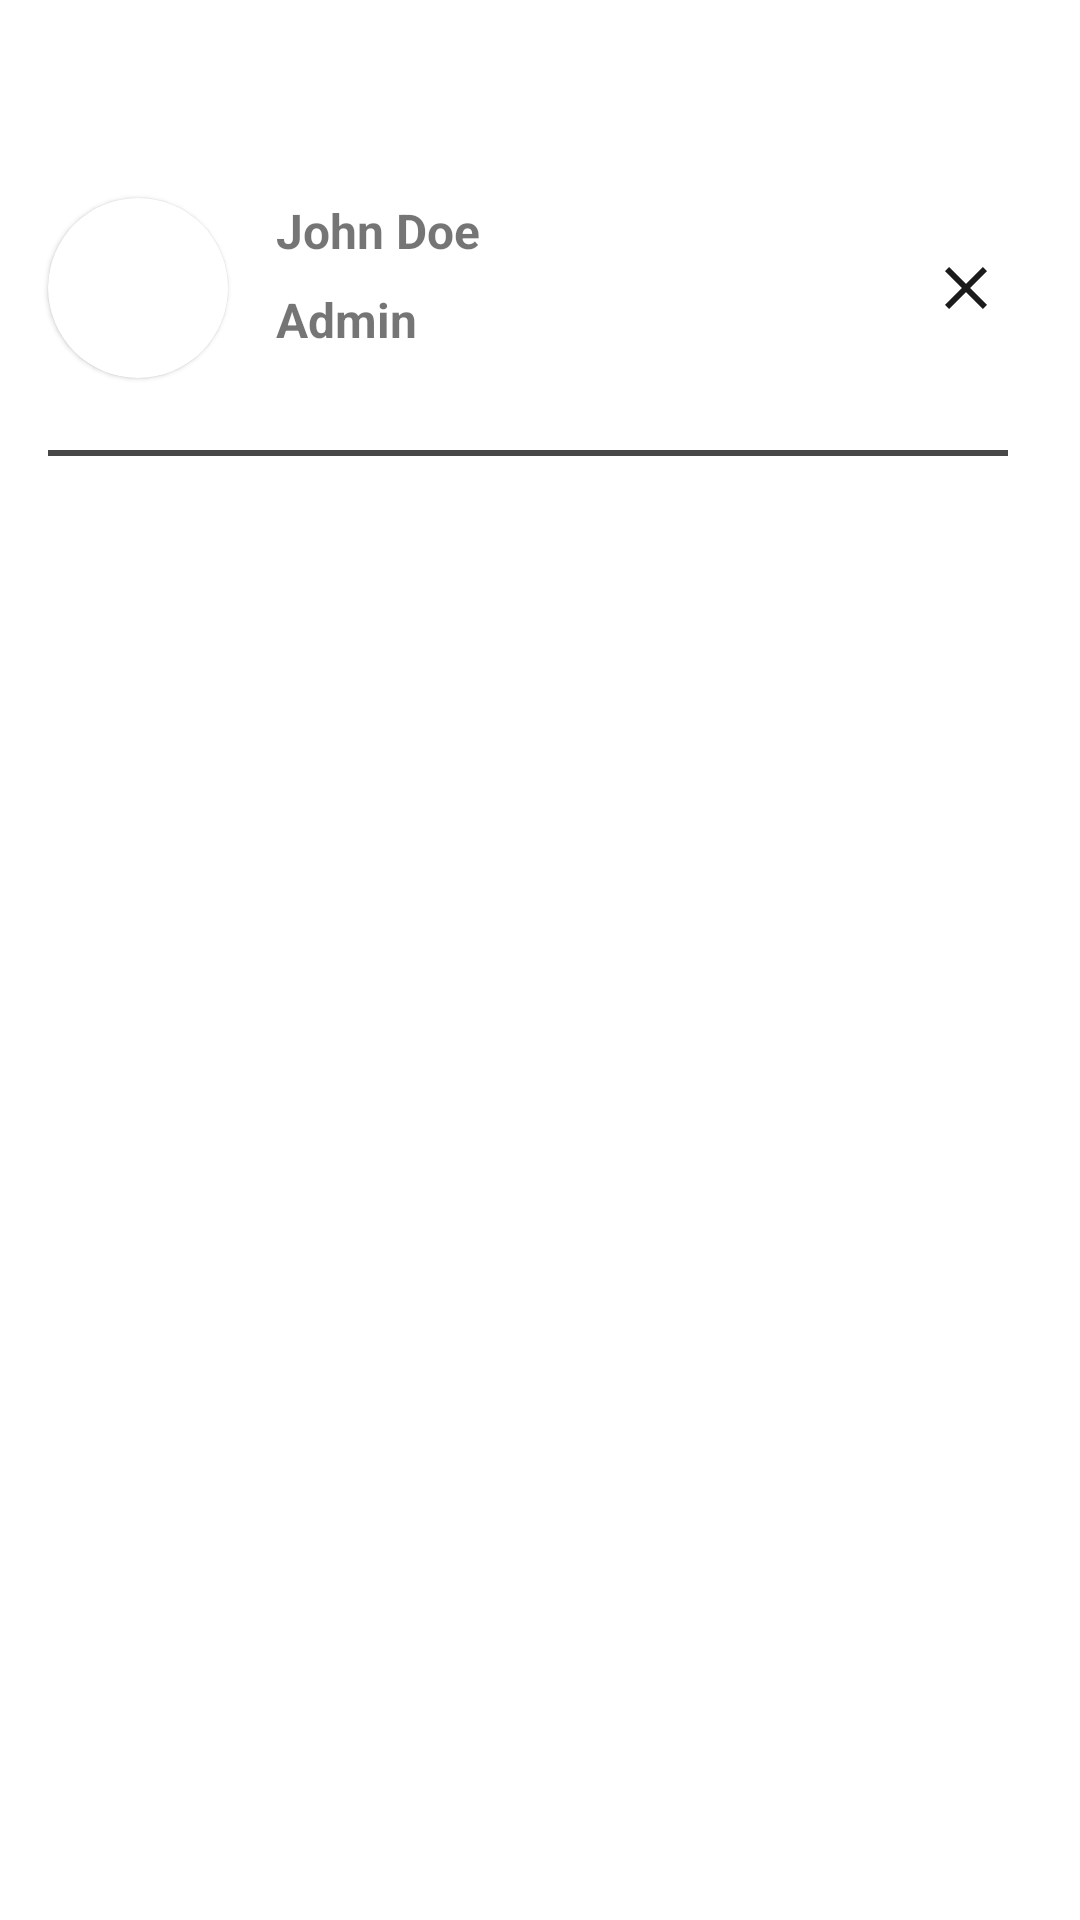

Icon click points for this 1080px×1920px phone screenshot, format point (x, y):
close: point (966, 288)
